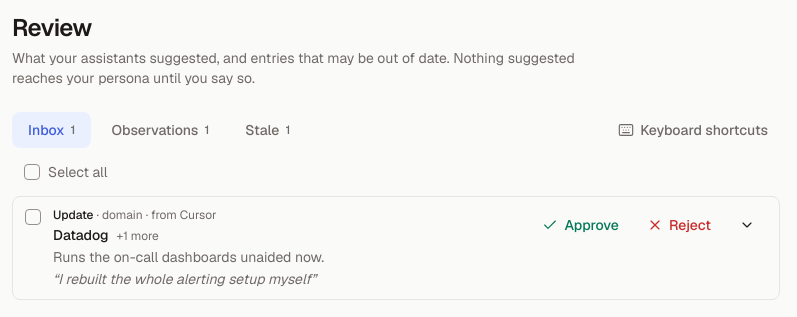
Test: ProposalsPanel › lists stale entries in their own tab, with Keep and a way to the section
What coordinates should you click on to do the following:
click the tab "Stale 1"
I would click on:
 (268, 130)
Its box is [229,112,306,148].
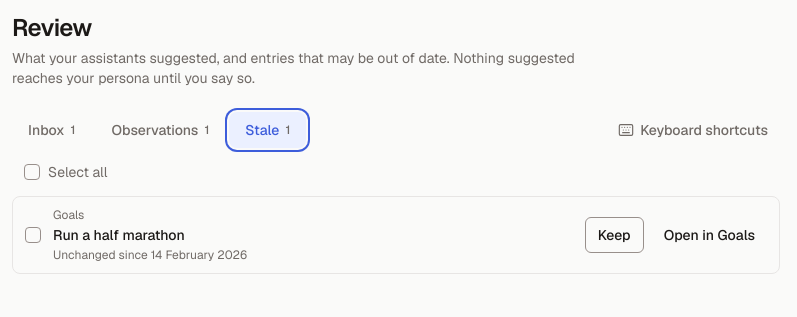
Expected: the text "Unchanged since 14 February 2026" is shown, [53,247,247,263]
What coordinates should you click on to do the following:
click the button "Open in Goals"
I would click on:
 (709, 235)
Its box is [652,217,767,253].
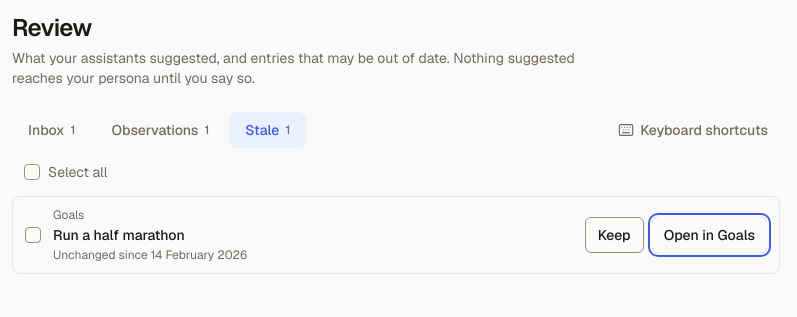
What coordinates should you click on to do the following:
click the button "Keep"
I would click on:
 (614, 235)
Its box is [585,217,644,253].
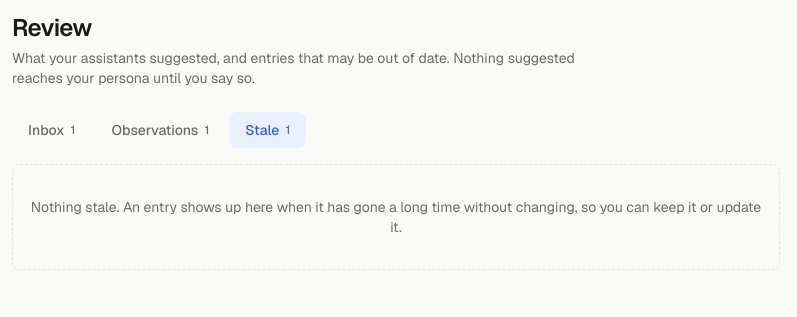
Expected: the text "Run a half marathon" is gone
